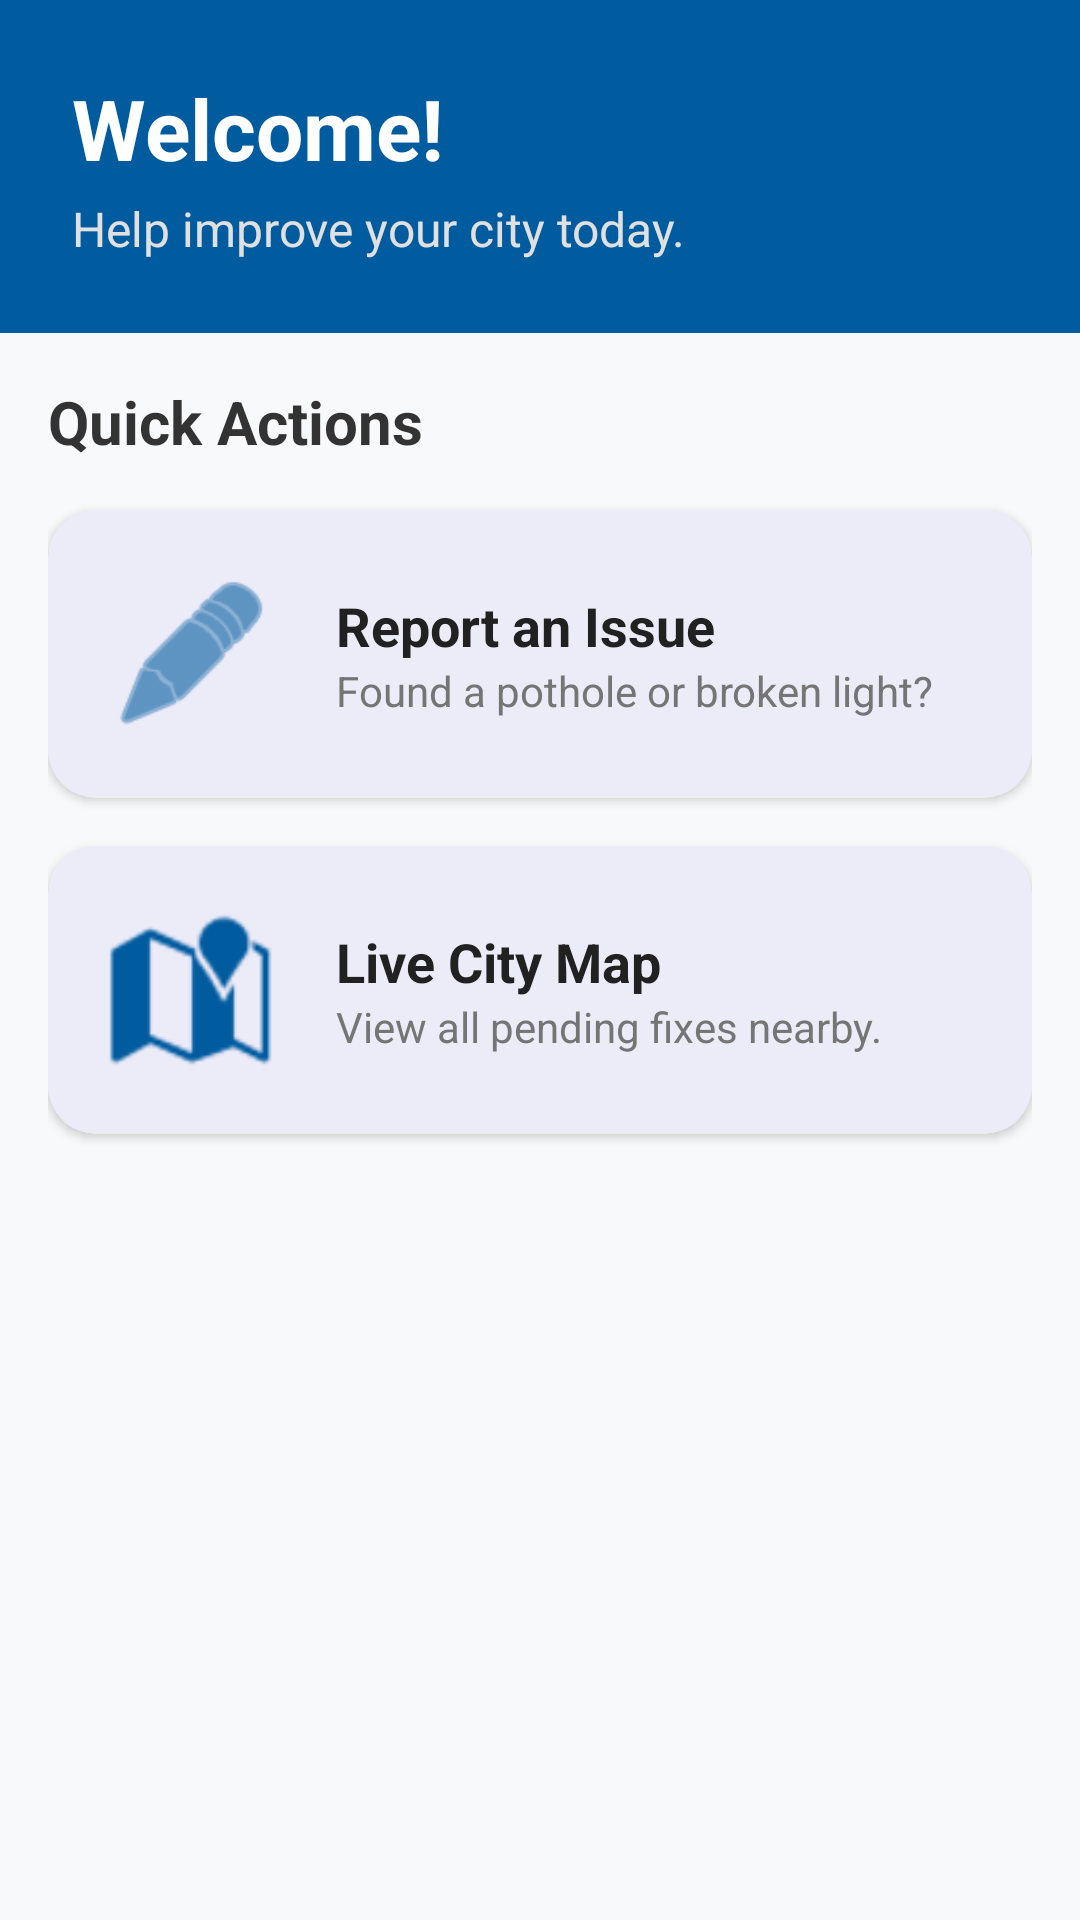

Icon bounding boxes for this 1080px x 1920px phone screenshot, format detection(x1, y1, x2, y2):
edit: detection(120, 582, 262, 724)
